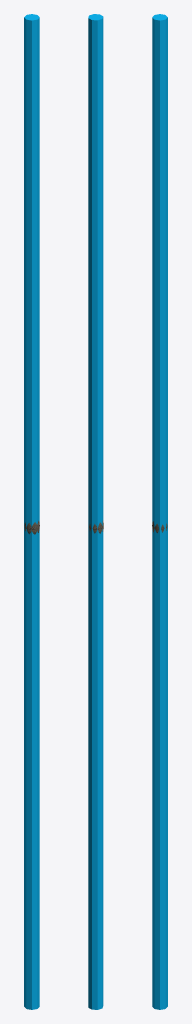
Rendered from JWC_Weapon_Yari_A_02.fbx.
The picture shows the model from 3 angles, left to right: view 1: azimuth 90°, elevation 25°; view 2: azimuth 150°, elevation 25°; view 3: azimuth 270°, elevation 25°; orthographic projection.
Parts seen in each view (by area): view 1: C_JWC_Weapon_Yari_A_02, JWC_Weapon_Yari_A_02; view 2: C_JWC_Weapon_Yari_A_02; view 3: C_JWC_Weapon_Yari_A_02.
Part boxes in pixels (x1,y1,x2,y2): C_JWC_Weapon_Yari_A_02: (24, 14, 39, 1009); JWC_Weapon_Yari_A_02: (24, 520, 39, 534); C_JWC_Weapon_Yari_A_02: (88, 14, 103, 1009); C_JWC_Weapon_Yari_A_02: (152, 14, 167, 1009).
Size of the model in its own units: 0.0578 by 4.01 by 0.0579.
